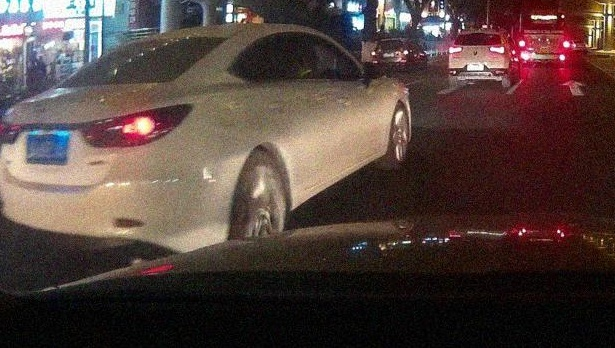L_light: (1, 120, 22, 144), (448, 47, 463, 53), (519, 40, 525, 48)
R_light: (81, 102, 195, 147), (488, 46, 505, 53), (563, 40, 569, 48)
T_light: (141, 40, 169, 47), (473, 32, 484, 35), (540, 14, 547, 16)
night-no: (447, 30, 506, 89), (518, 11, 569, 67)
night-right: (0, 21, 230, 258)
